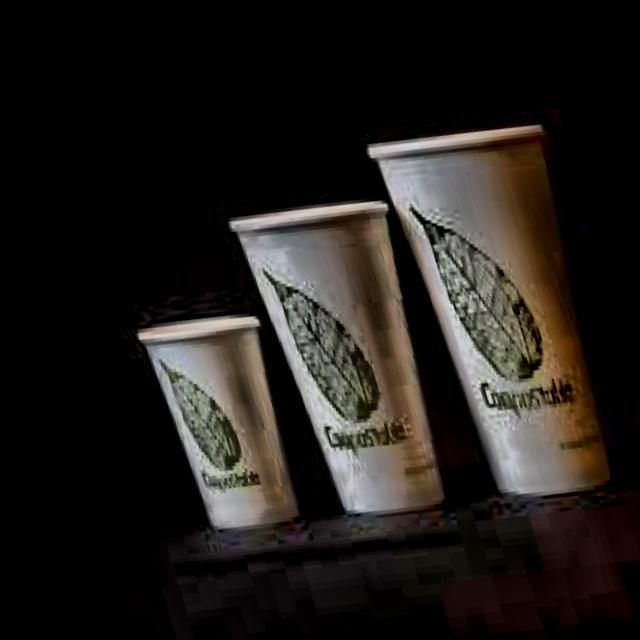Cup: (353, 94, 640, 524), (213, 173, 464, 540), (122, 293, 315, 552)
